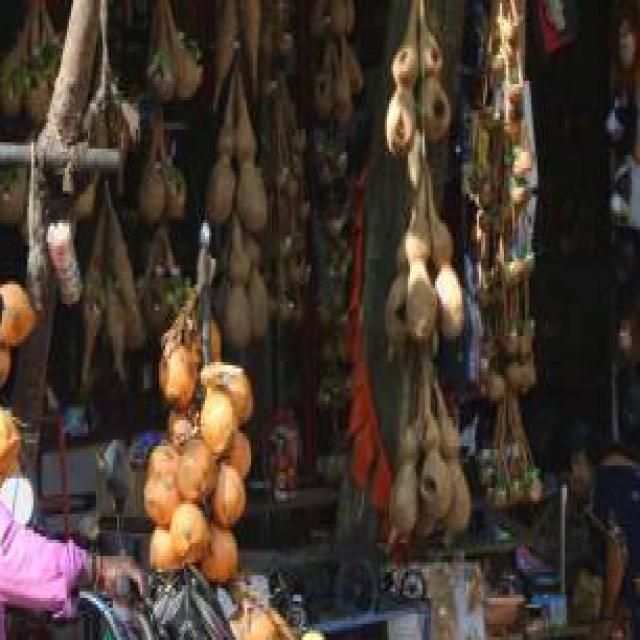bike: (0, 543, 393, 640)
